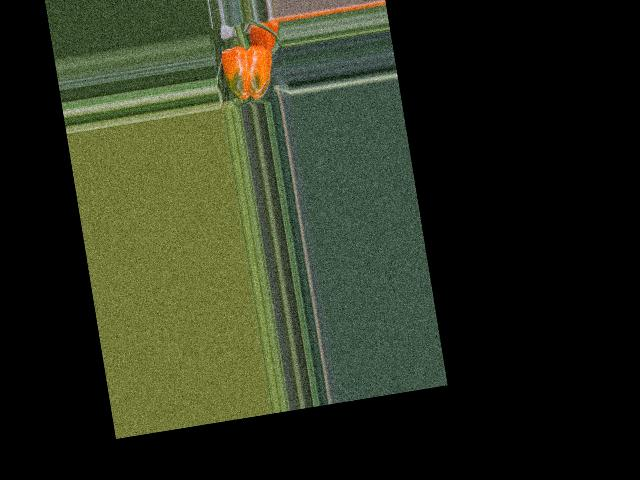bell_pepper: (212, 34, 280, 108)
